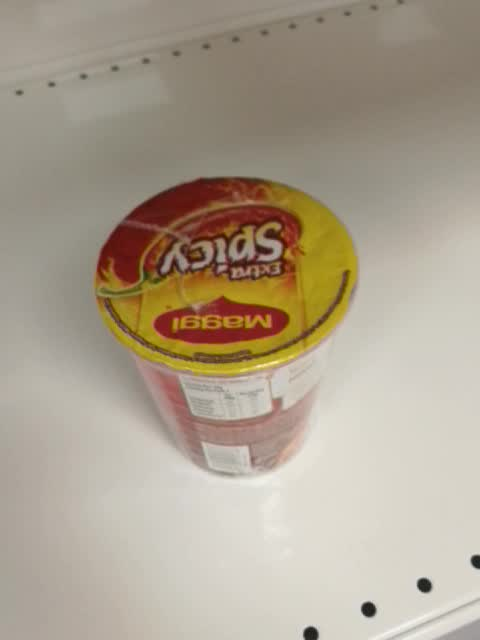maggi: (93, 173, 363, 478)
